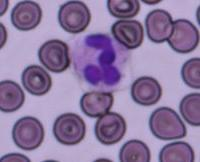N: (68, 31, 132, 93)
